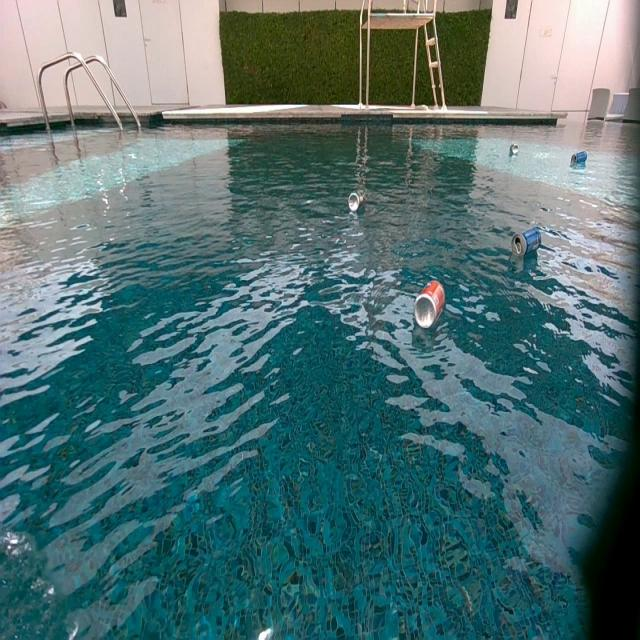Cans: (414, 280, 444, 332), (512, 227, 544, 260), (348, 194, 362, 212), (572, 150, 587, 164), (511, 142, 520, 156)
